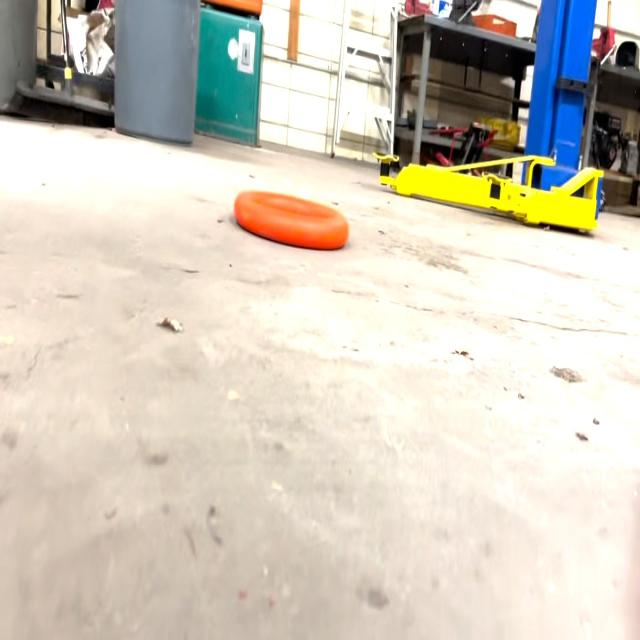note: (234, 186, 350, 253)
